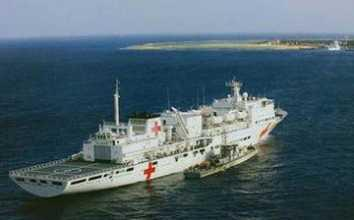otherboat: (186, 138, 259, 183)
warship: (12, 74, 288, 200)
